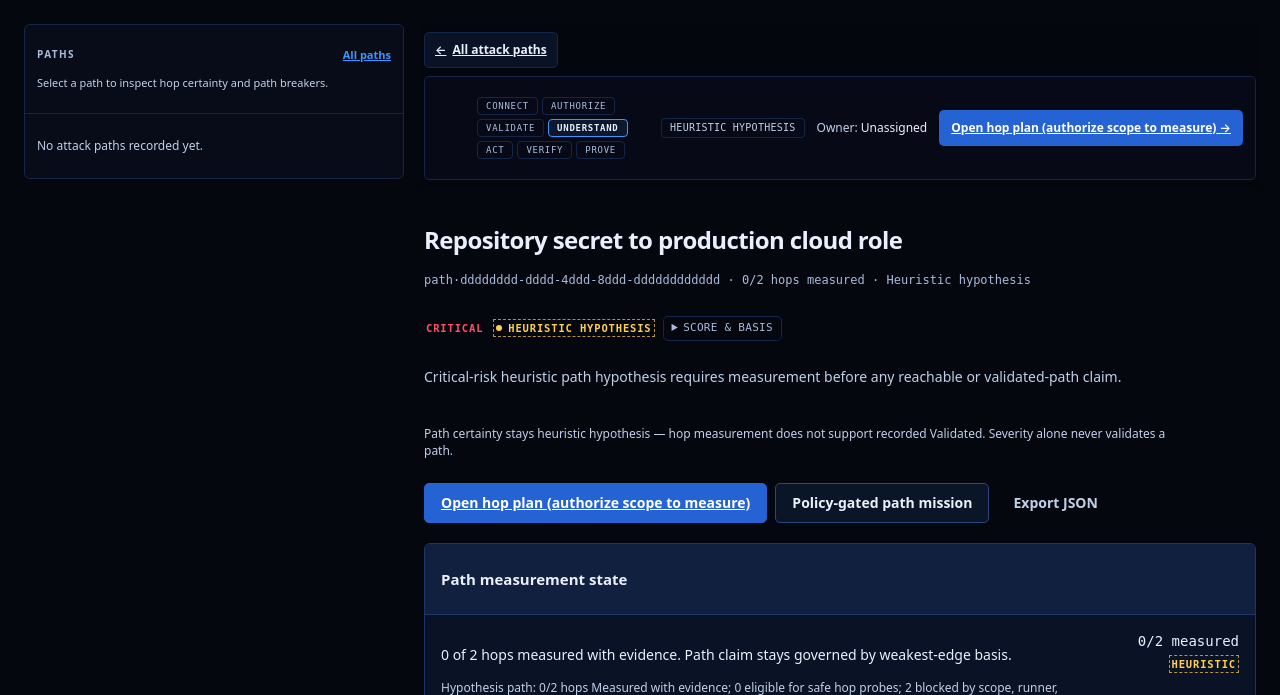
Test case: AttackPathDetail › exposes safe verification, evidence drill-through, and path export
expect the heading "Repository secret to production cloud role" is shown: met, box 424,223 -> 902,256
expect the button "Export JSON" is shown: met, box 998,483 -> 1114,523
Click the button "Policy-gated path mission" at [882, 503], box 775,483 -> 989,523
(page scrolled)
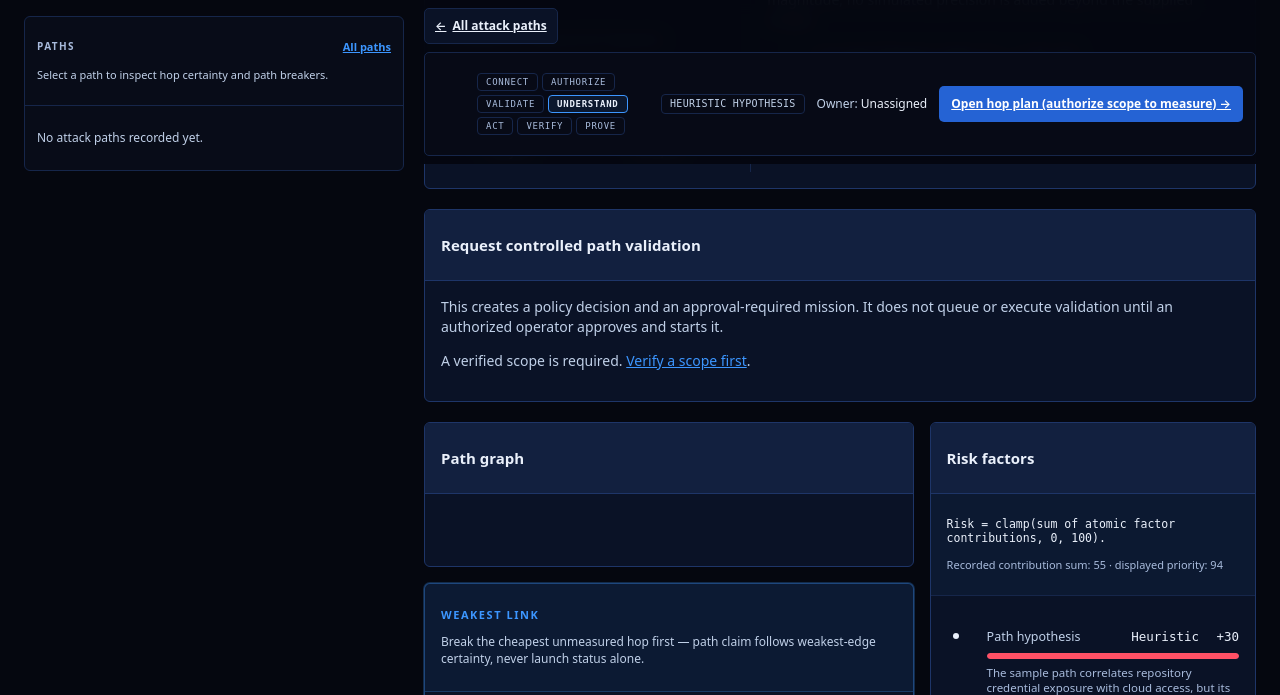
expect the text "does not queue or execute validation" is shown: met, box 441,297 -> 1173,336
